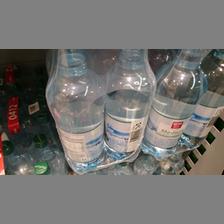water: (142, 49, 208, 159), (45, 50, 104, 172), (102, 50, 157, 159)
